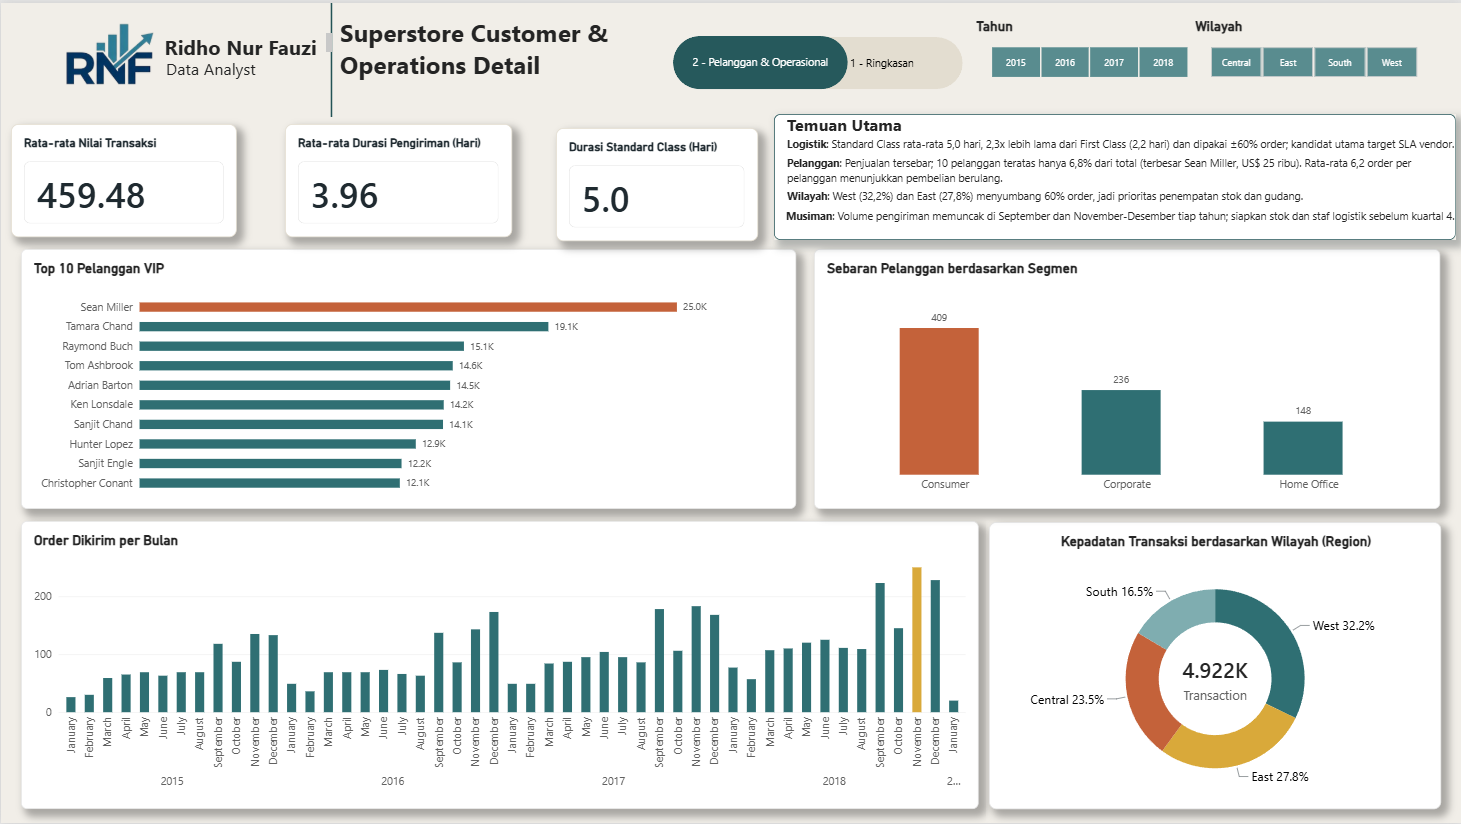

The dashboard page shown, as its layout file describes it:
{"tool":"powerbi","page":{"name":"Page 2","canvas":[1920,1080],"ordinal":1},"visuals":[{"type":"cardVisual","title":"Rata-rata  Nilai Transaksi","fields":{"Data":["Fact_Sales.AOV"]},"box":[12.9,158.6,297.1,148.6],"z":0},{"type":"clusteredBarChart","title":"Top 10 Pelanggan VIP","fields":{"Category":["Dim_Customer.Customer Name"],"Y":["Fact_Sales.Total Sales"]},"box":[26,324,1020,342],"z":1000},{"type":"cardVisual","title":"Rata-rata Durasi Pengiriman (Hari)","fields":{"Data":["Fact_Sales.Lead Time"]},"box":[374.3,158.6,298.6,148.6],"z":2000},{"type":"columnChart","title":"Order Dikirim per Bulan","fields":{"Category":["Fact_Sales.Ship Date.Variation.Date Hierarchy.Year","Fact_Sales.Ship Date.Variation.Date Hierarchy.Month"],"Y":["Count(Fact_Sales.Order ID)"]},"box":[25.7,681.4,1260,378.6],"z":3000},{"type":"donutChart","title":"Kepadatan Transaksi berdasarkan Wilayah (Region)","fields":{"Category":["Fact_Sales.Region"],"Y":["Count(Fact_Sales.Order ID)"]},"box":[1300,682.5,595,377.5],"z":4000},{"type":"clusteredColumnChart","title":"Sebaran Pelanggan berdasarkan Segmen","fields":{"Category":["Dim_Customer.Segment"],"Y":["Count(Fact_Sales.Customer ID)"]},"box":[1070,324,824,342],"z":5000},{"type":"cardVisual","title":"Durasi Standard Class (Hari)","fields":{"Data":["Fact_Sales.Rata2 Standard Class"]},"box":[730,164.3,265.7,148.6],"z":6000},{"type":"slicer","title":"Wilayah","fields":{"Values":["Fact_Sales.Region"]},"box":[1555.7,5.7,342.9,110],"z":8000},{"type":"slicer","title":"Tahun","fields":{"Values":["Dim_Date.Date.Variation.Date Hierarchy.Year"]},"box":[1267.1,5.7,328.6,110],"z":9000},{"type":"textbox","box":[445.7,15.7,361.4,85.7],"z":10000},{"type":"shape","box":[412,0,46,150],"z":11000},{"type":"textbox","box":[202.3,39.5,233.3,36.7],"z":12000},{"type":"textbox","box":[217.3,72.9,123.3,30],"z":13000},{"type":"image","box":[84,8,118,120],"z":14000},{"type":"shape","box":[1017.1,145.7,897.1,165.7],"z":15000},{"type":"textbox","box":[1034.3,145.7,158.8,30],"z":16000},{"type":"textbox","box":[1034.3,175.7,880,25.7],"z":17000},{"type":"textbox","box":[1034.3,201.4,880,42.9],"z":18000},{"type":"textbox","box":[1034.3,244.3,730,27.1],"z":19000},{"type":"textbox","box":[1032.9,271.4,885.7,31.4],"z":20000},{"type":"actionButton","box":[1052.9,44.3,212.9,68.6],"z":21000},{"type":"actionButton","box":[884.3,42.9,230,70],"z":22000}]}

Visuals, with their boxes in screenshot pixels (x1, y1, x2, y2), scaled from the page's 1920x1080 canvas onto the 1461x824 screenshot:
"Rata-rata  Nilai Transaksi" cardVisual: left=10, top=121, right=236, bottom=234
"Top 10 Pelanggan VIP" clusteredBarChart: left=20, top=247, right=796, bottom=508
"Rata-rata Durasi Pengiriman (Hari)" cardVisual: left=285, top=121, right=512, bottom=234
"Order Dikirim per Bulan" columnChart: left=20, top=520, right=978, bottom=809
"Kepadatan Transaksi berdasarkan Wilayah (Region)" donutChart: left=989, top=521, right=1442, bottom=809
"Sebaran Pelanggan berdasarkan Segmen" clusteredColumnChart: left=814, top=247, right=1441, bottom=508
"Durasi Standard Class (Hari)" cardVisual: left=555, top=125, right=758, bottom=239
"Wilayah" slicer: left=1184, top=4, right=1445, bottom=88
"Tahun" slicer: left=964, top=4, right=1214, bottom=88
textbox: left=339, top=12, right=614, bottom=77
shape: left=314, top=0, right=349, bottom=114
textbox: left=154, top=30, right=331, bottom=58
textbox: left=165, top=56, right=259, bottom=79
image: left=64, top=6, right=154, bottom=98
shape: left=774, top=111, right=1457, bottom=238
textbox: left=787, top=111, right=908, bottom=134
textbox: left=787, top=134, right=1457, bottom=154
textbox: left=787, top=154, right=1457, bottom=186
textbox: left=787, top=186, right=1343, bottom=207
textbox: left=786, top=207, right=1460, bottom=231
actionButton: left=801, top=34, right=963, bottom=86
actionButton: left=673, top=33, right=848, bottom=86
